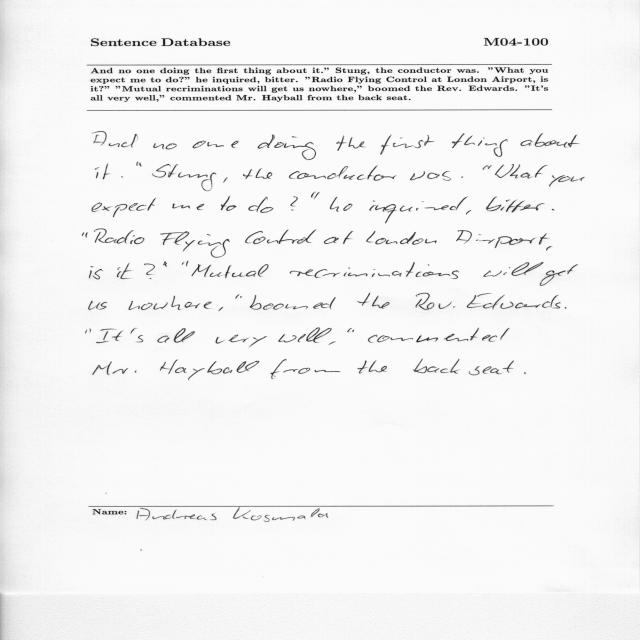word: (290, 262, 459, 279), (369, 197, 467, 223), (368, 328, 510, 343), (160, 359, 259, 380), (160, 231, 230, 258), (152, 164, 216, 191), (456, 230, 549, 248), (289, 166, 396, 181), (467, 293, 560, 309), (258, 135, 316, 160), (271, 359, 340, 379), (452, 133, 508, 157), (250, 295, 336, 310), (92, 198, 156, 217), (129, 296, 212, 310), (245, 229, 317, 244), (192, 264, 269, 278), (380, 135, 435, 154), (366, 231, 437, 245), (486, 197, 545, 213), (483, 262, 544, 277), (540, 264, 578, 286), (521, 133, 580, 147), (278, 328, 332, 343), (93, 131, 138, 148), (94, 229, 144, 244), (495, 164, 547, 178), (413, 359, 459, 374), (416, 293, 456, 310), (469, 361, 514, 376), (93, 361, 137, 375), (216, 335, 267, 347), (157, 328, 195, 343), (358, 293, 390, 309), (336, 135, 365, 151), (549, 175, 585, 187), (144, 261, 167, 279), (410, 171, 451, 181), (249, 197, 274, 213), (357, 361, 387, 374), (96, 329, 123, 343), (324, 231, 353, 244), (193, 141, 239, 149), (330, 197, 352, 212), (243, 168, 272, 179), (221, 196, 237, 211), (96, 164, 111, 179), (117, 263, 131, 279), (172, 204, 204, 210), (89, 266, 103, 279), (131, 328, 143, 342), (89, 301, 107, 310), (153, 143, 177, 149), (290, 196, 298, 211), (311, 192, 320, 199), (482, 165, 492, 170), (235, 294, 242, 299), (85, 329, 91, 334), (347, 328, 354, 332), (137, 162, 142, 167), (223, 178, 228, 183), (466, 210, 471, 215), (83, 232, 88, 237), (546, 246, 551, 251), (329, 341, 335, 345), (218, 307, 223, 311), (186, 261, 188, 267), (182, 262, 184, 265), (121, 176, 123, 178), (461, 176, 463, 178), (565, 307, 567, 309), (524, 372, 526, 374), (552, 209, 555, 210)
